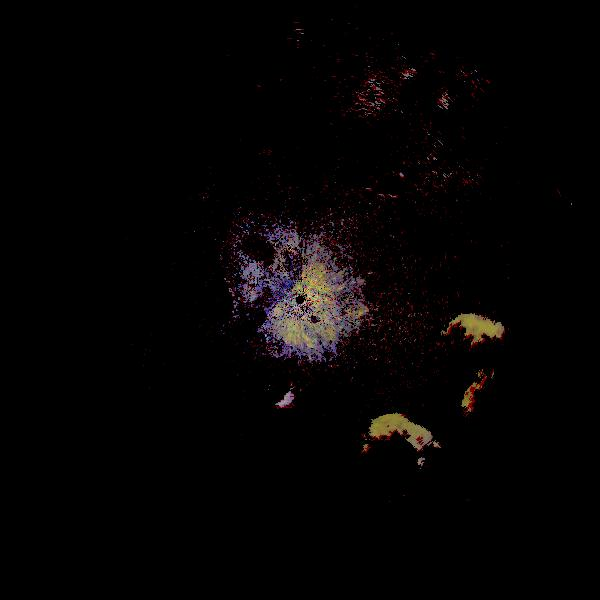roost: (434, 324, 600, 528), (417, 282, 564, 429), (337, 390, 481, 534), (229, 313, 355, 439)
